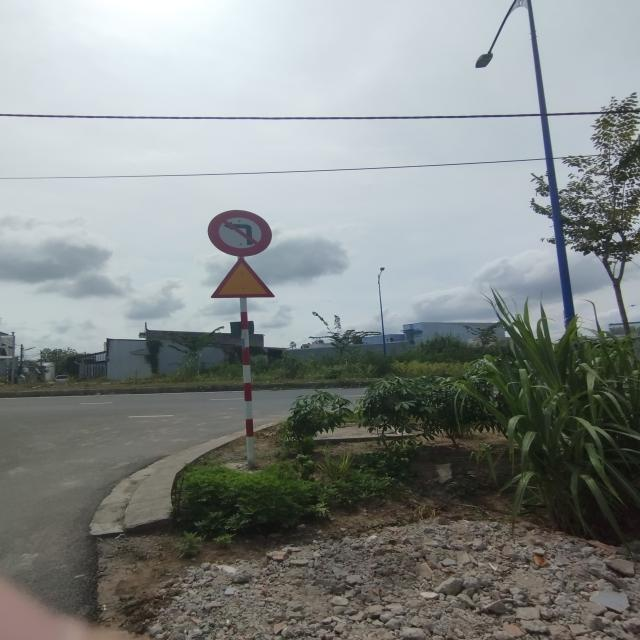Cam_Re_Trai: (207, 209, 273, 258)
Gioi_Han_Toc_Do_25: (211, 256, 274, 298)
